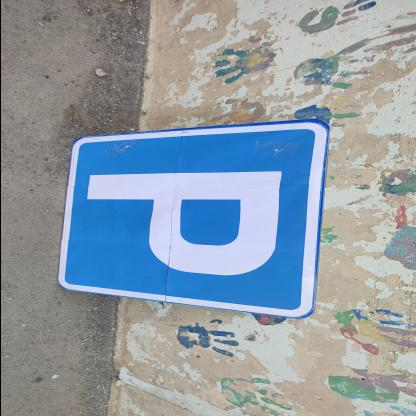Parking-Sign: (52, 119, 331, 318)
